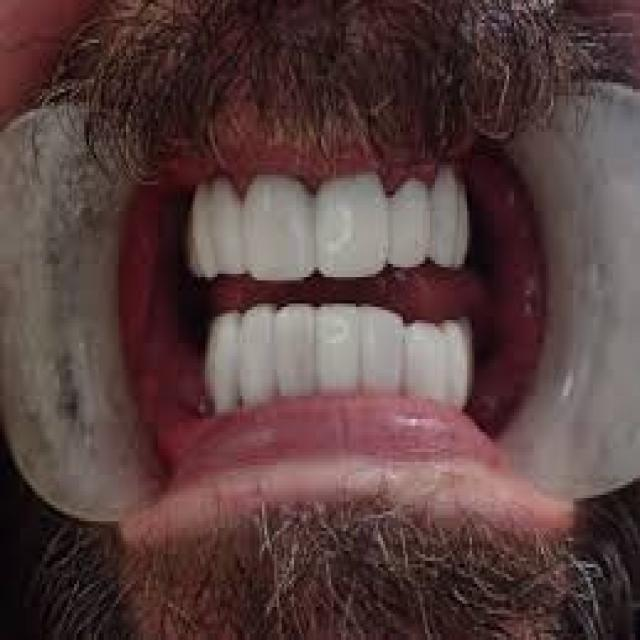tooth: (240, 168, 318, 284), (314, 175, 390, 280), (356, 290, 408, 396), (203, 168, 247, 287), (316, 290, 361, 396), (274, 290, 319, 396), (388, 172, 432, 280), (400, 307, 450, 399), (240, 297, 276, 402), (430, 155, 460, 277), (208, 307, 242, 406)
